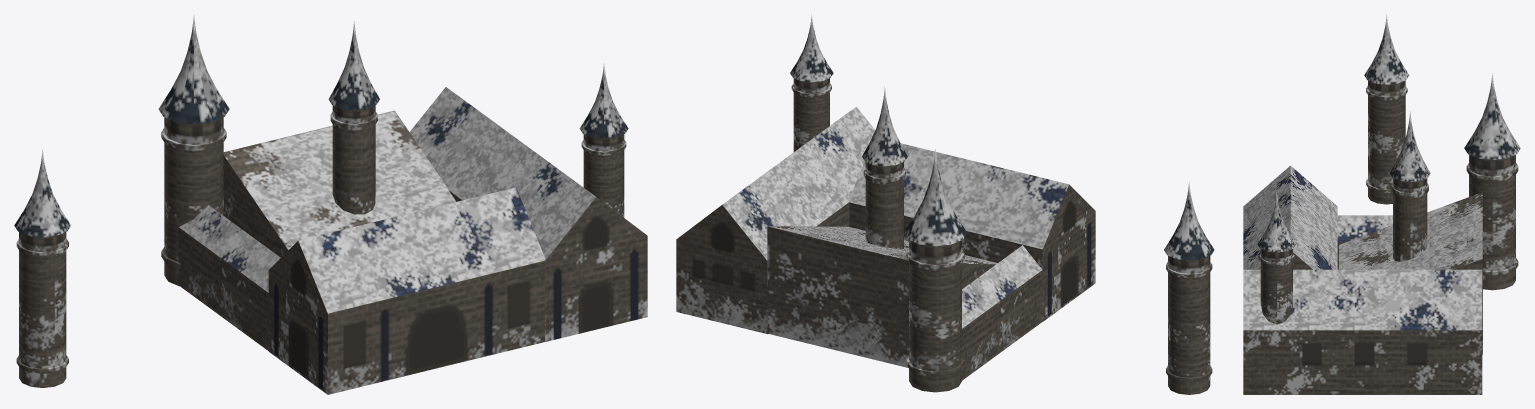
File: SchoolOfMagic.fbx
The picture shows the model from 3 angles, left to right: view 1: azimuth 30°, elevation 25°; view 2: azimuth 150°, elevation 25°; view 3: azimuth 270°, elevation 25°; orthographic projection. The views are drawn at different scales.
Parts seen in each view (by area): view 1: SchoolBuildingA, SchoolBuildingB, SchoolBuildingD, SchoolPillarB, SchoolPillarD, SchoolBuildingC, SchoolPillarA, SchoolPillarC; view 2: SchoolBuildingB, SchoolBuildingD, SchoolBuildingA, SchoolPillarB, SchoolPillarD, SchoolBuildingC, SchoolPillarA, SchoolPillarC; view 3: SchoolBuildingB, SchoolPillarB, SchoolBuildingA, SchoolBuildingD, SchoolPillarD, SchoolPillarA, SchoolPillarC, SchoolBuildingC.
Boxes of the visible parts, x1=… form: SchoolBuildingA: x1=268, y1=187, x2=545, y2=394; SchoolBuildingB: x1=409, y1=87, x2=647, y2=341; SchoolBuildingD: x1=223, y1=110, x2=456, y2=257; SchoolPillarB: x1=158, y1=15, x2=229, y2=286; SchoolPillarD: x1=14, y1=149, x2=70, y2=387; SchoolBuildingC: x1=178, y1=205, x2=280, y2=350; SchoolPillarA: x1=328, y1=21, x2=379, y2=214; SchoolPillarC: x1=579, y1=63, x2=628, y2=217; SchoolBuildingB: x1=676, y1=106, x2=875, y2=334; SchoolBuildingD: x1=767, y1=226, x2=997, y2=367; SchoolBuildingA: x1=849, y1=143, x2=1095, y2=321; SchoolPillarB: x1=904, y1=149, x2=966, y2=392; SchoolPillarD: x1=1164, y1=181, x2=1214, y2=394; SchoolBuildingC: x1=961, y1=245, x2=1042, y2=380; SchoolPillarA: x1=862, y1=86, x2=907, y2=249; SchoolPillarC: x1=790, y1=14, x2=833, y2=151; SchoolBuildingB: x1=1243, y1=269, x2=1482, y2=394; SchoolPillarB: x1=1464, y1=73, x2=1520, y2=290; SchoolBuildingA: x1=1243, y1=165, x2=1337, y2=269; SchoolBuildingD: x1=1339, y1=192, x2=1482, y2=354; SchoolPillarD: x1=1364, y1=14, x2=1409, y2=204; SchoolPillarA: x1=1390, y1=111, x2=1430, y2=261; SchoolPillarC: x1=1257, y1=192, x2=1296, y2=324; SchoolBuildingC: x1=1337, y1=215, x2=1392, y2=269.
Bounding box in the file's own units: 34.42 × 16.34 × 19.3.
